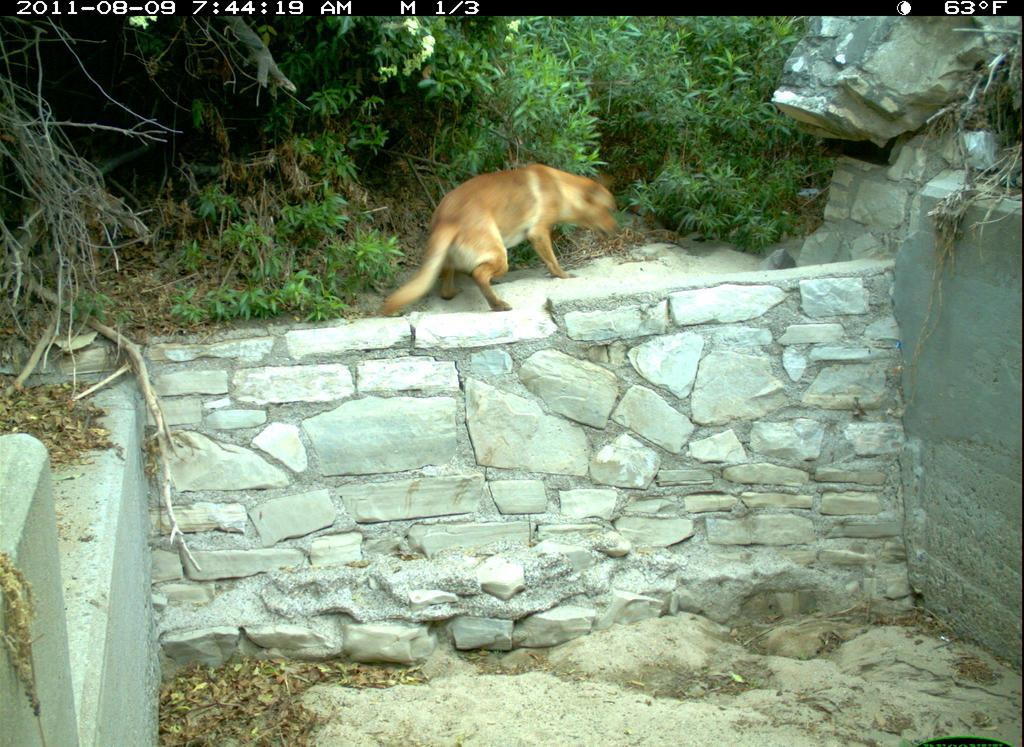dog: (400, 159, 616, 338)
